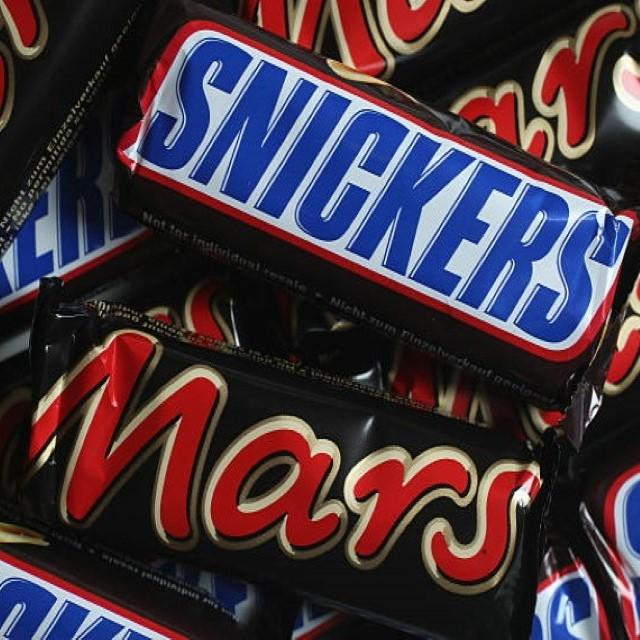mars_chocolate: (0, 283, 570, 640)
snickers_chocolate: (95, 10, 640, 388)
